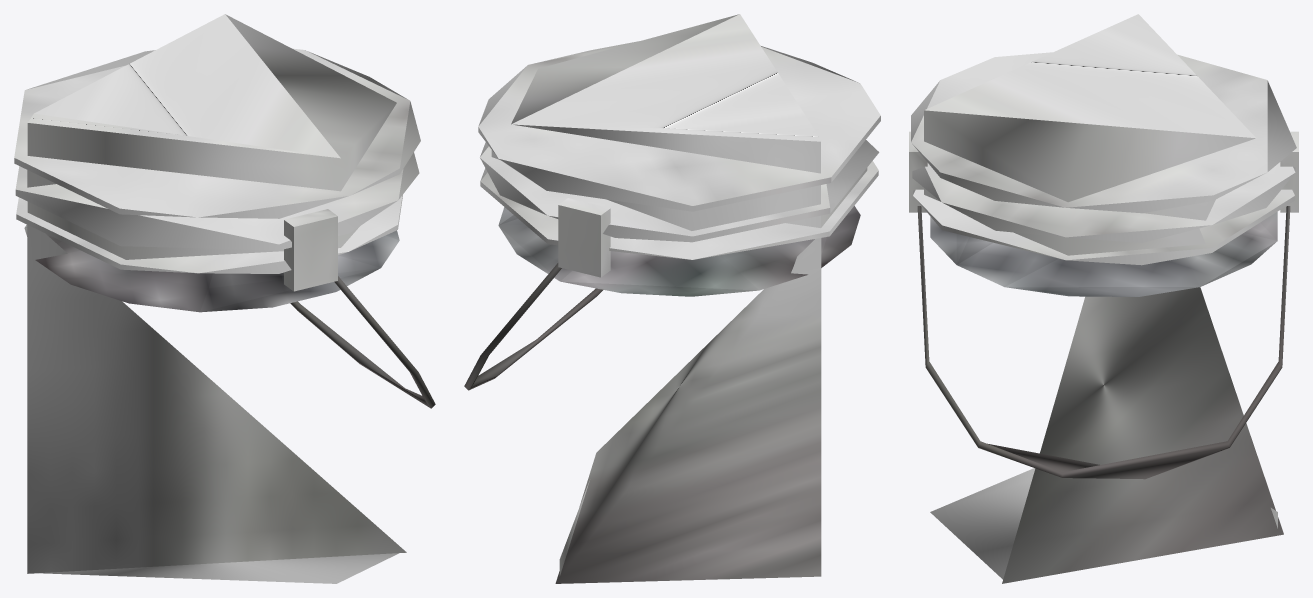
The model's file is cove-bucket.lod1.glb.
3 renders of one model, left to right at view 1: azimuth 30°, elevation 25°; view 2: azimuth 150°, elevation 25°; view 3: azimuth 270°, elevation 25°, orthographic. The views are drawn at different scales.
Visible parts, largest first — view 1: Object_10; view 2: Object_10; view 3: Object_10.
Part boxes in pixels (x1=…): Object_10: x1=14, y1=14, x2=435, y2=583; Object_10: x1=464, y1=14, x2=880, y2=583; Object_10: x1=909, y1=14, x2=1298, y2=583.
Bounding box in the file's own units: 0.3399 × 0.42 × 0.3435.
Materials: 1 (1 with a texture image).
